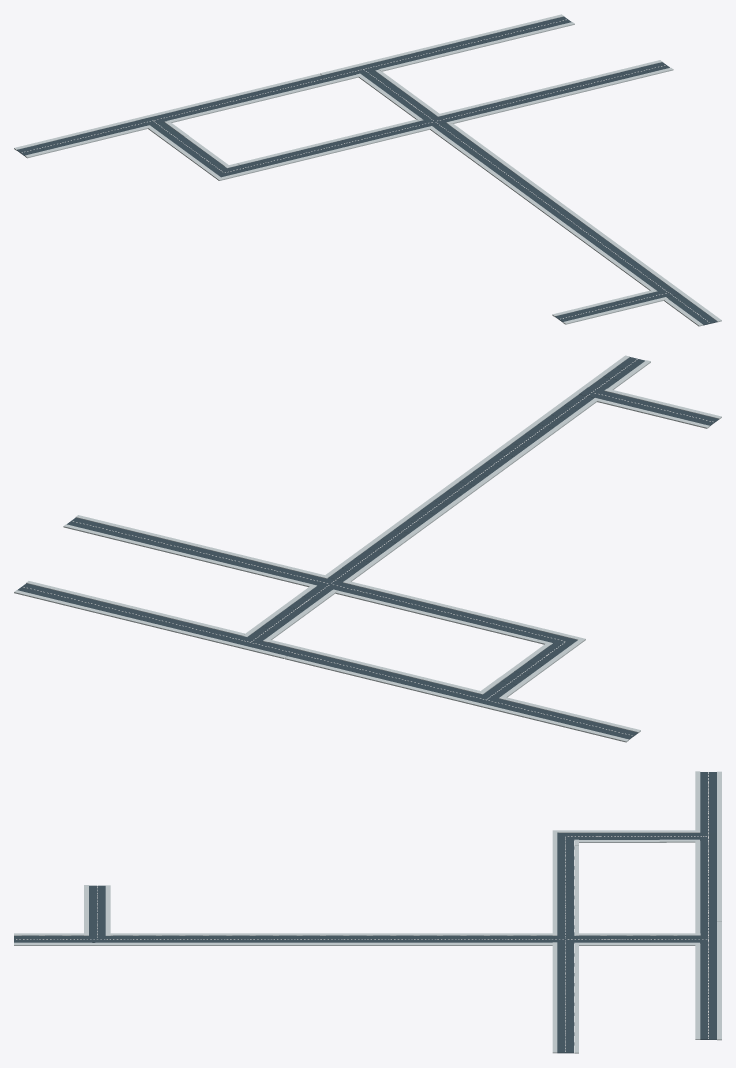
File: roads.glb
The picture shows the model from 3 angles, top to bottom: view 1: azimuth 30°, elevation 25°; view 2: azimuth 150°, elevation 25°; view 3: azimuth 270°, elevation 25°; orthographic projection. The views are drawn at different scales.
Parts seen in each view (by area): view 1: group336620870.008; view 2: group336620870.008; view 3: group336620870.008.
Boxes of the visible parts, bbox=[...] form: group336620870.008: bbox=[329, 58, 401, 79]; group336620870.008: bbox=[207, 629, 288, 654]; group336620870.008: bbox=[700, 924, 716, 956].
Bounding box in the file's own units: 142 × 0.37 × 151.
